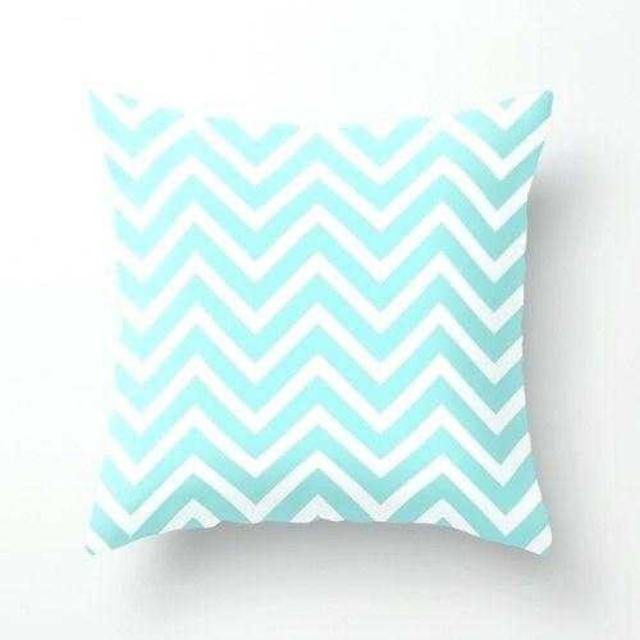pillow: (82, 82, 556, 560)
